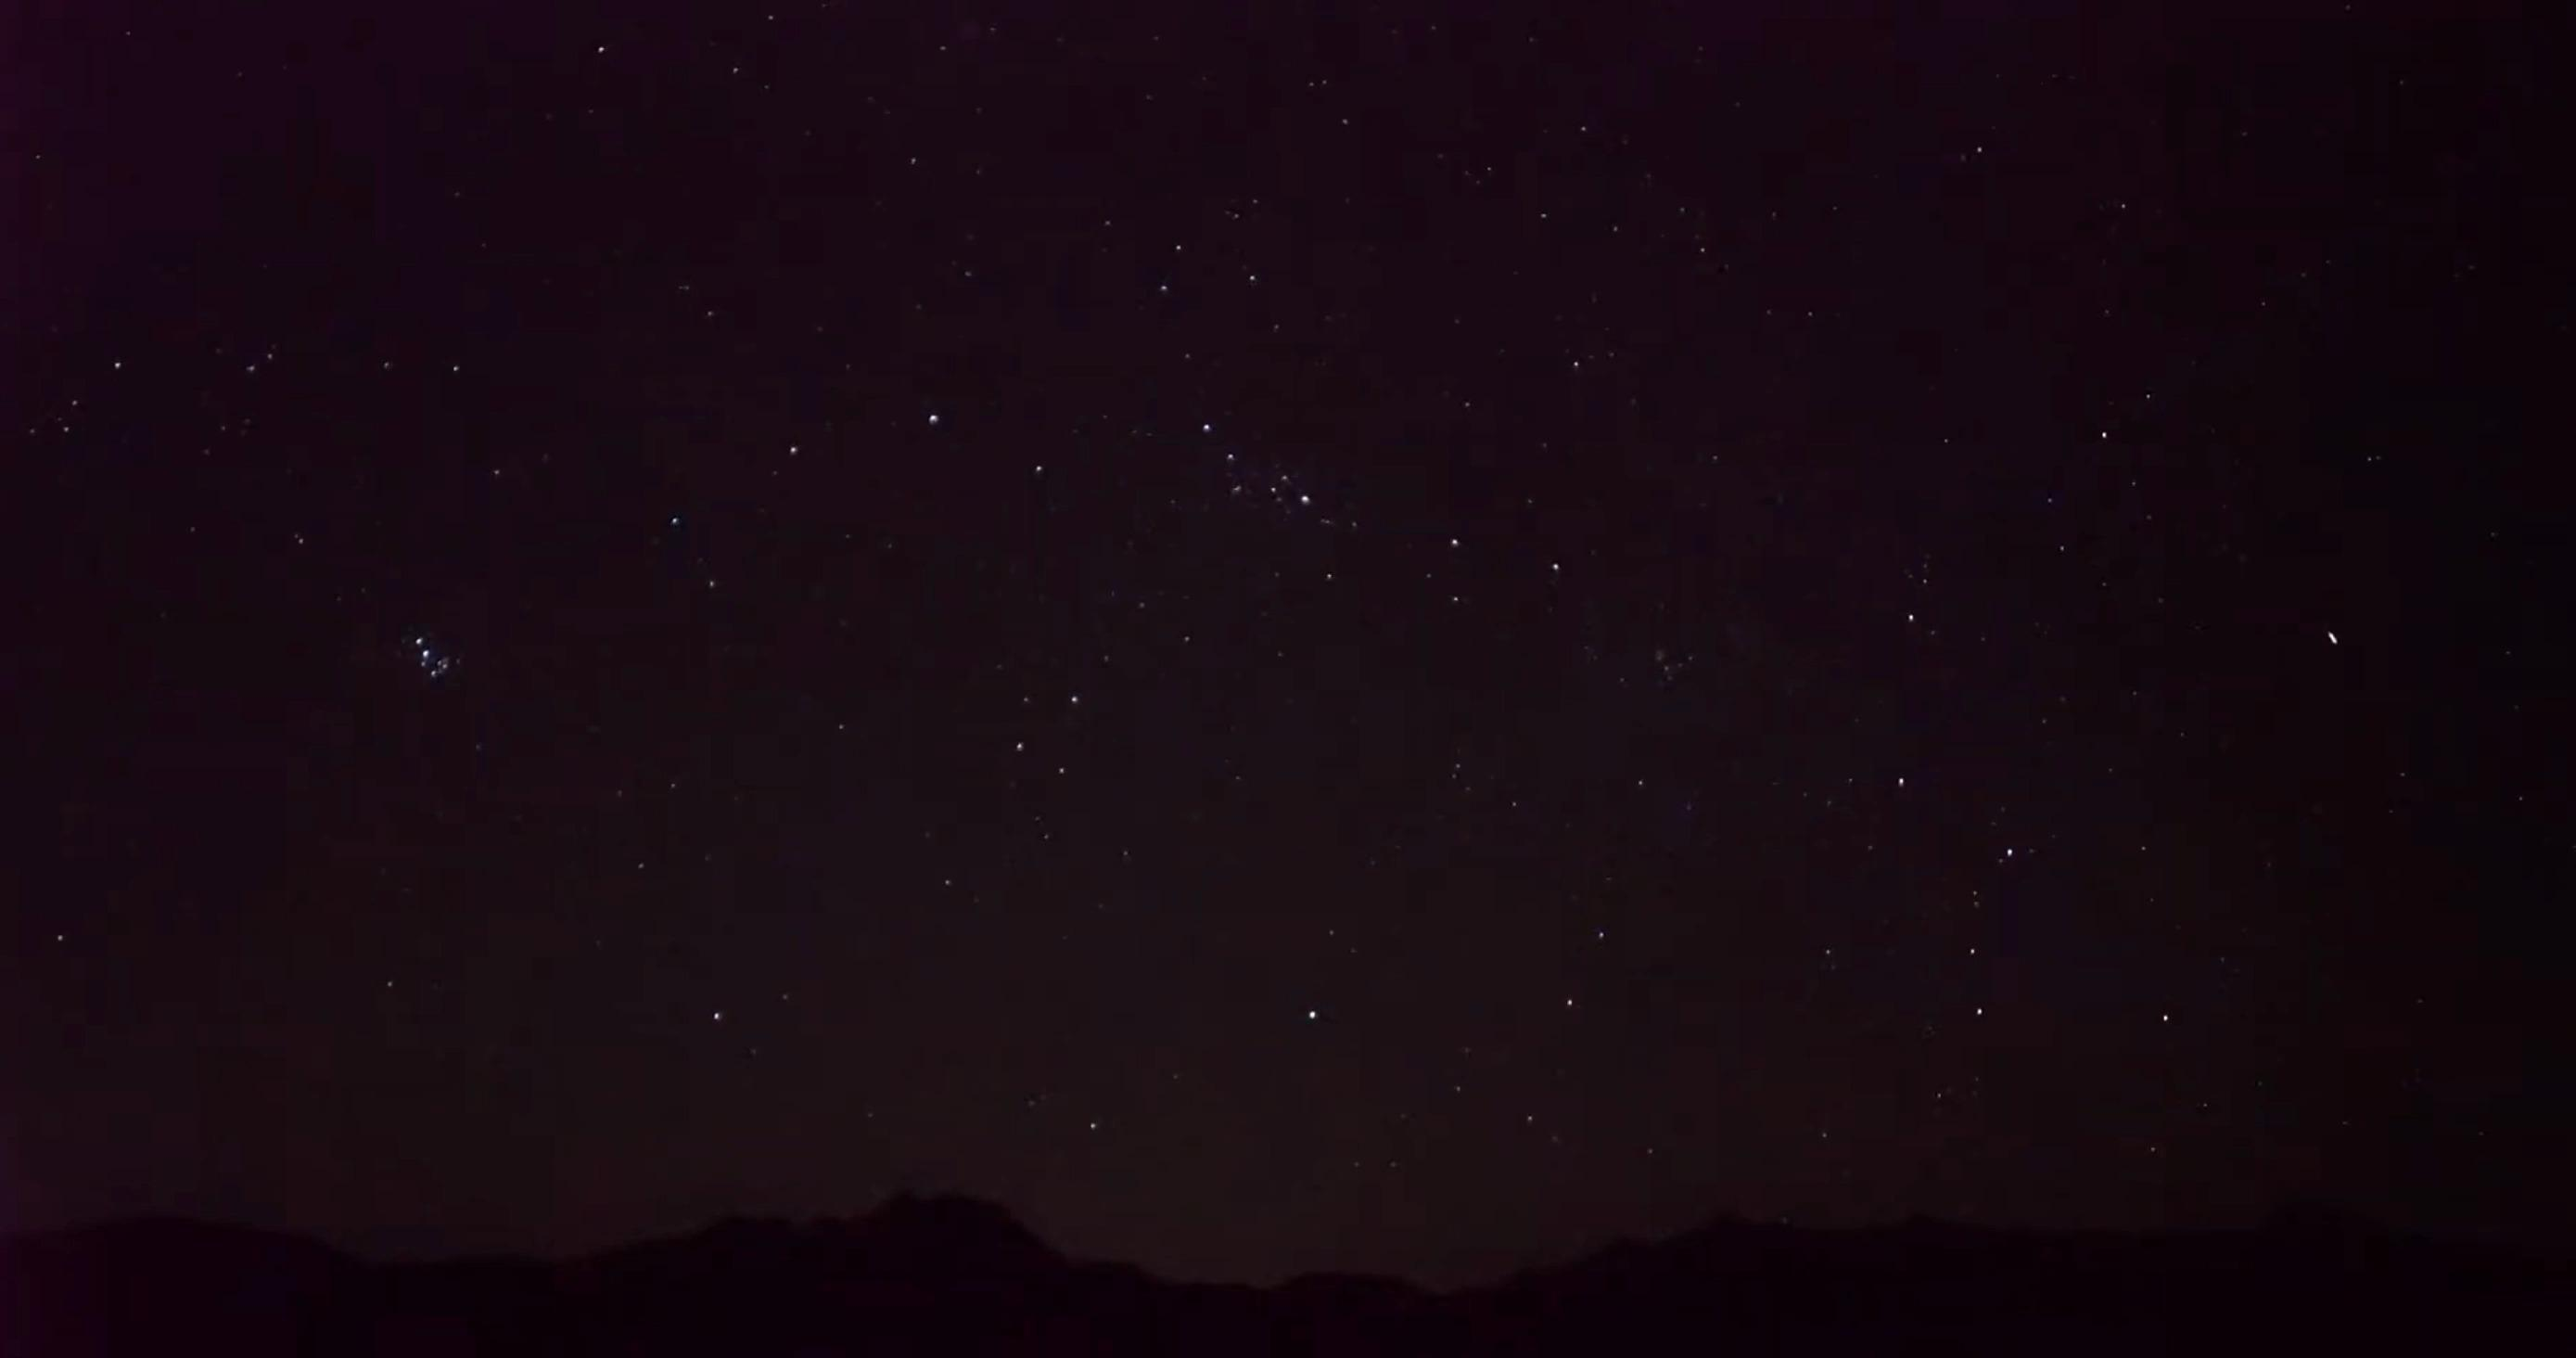meteorite: (2307, 612, 2358, 666)
